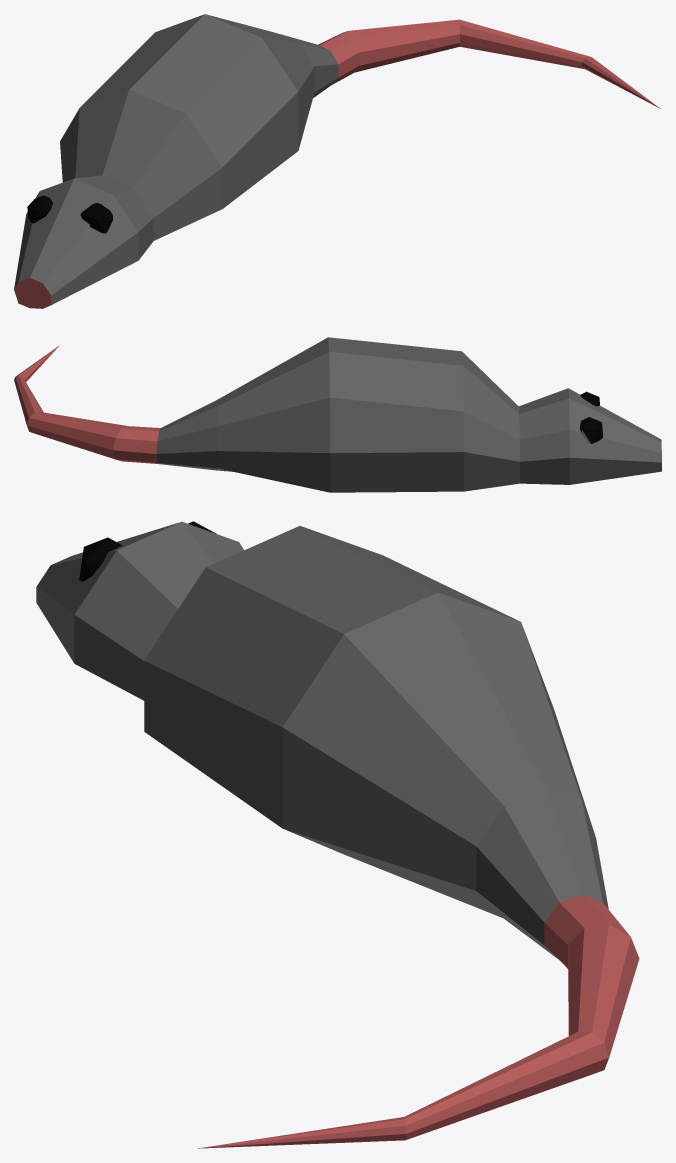
The model's file is Mouse.fbx.
3 renders of one model, top to bottom at view 1: azimuth 30°, elevation 25°; view 2: azimuth 150°, elevation 25°; view 3: azimuth 270°, elevation 25°, orthographic. The views are drawn at different scales.
Visible parts, largest first — view 1: Cylinder.044; view 2: Cylinder.044; view 3: Cylinder.044.
Part boxes in pixels (x1,y1,x2,y2): Cylinder.044: (14,14,660,308); Cylinder.044: (14,337,661,492); Cylinder.044: (36,521,639,1148).
Size of the model in its own units: 7.76 by 3.51 by 1.65.
1 material, 1 textured.
